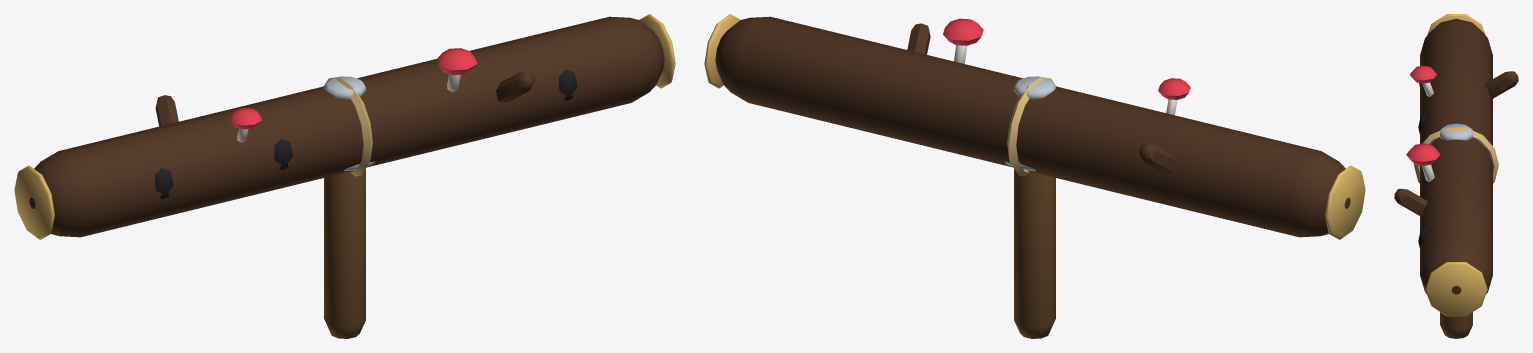
The model's file is H13_SpinningLog_Rotten.fbx.
3 renders of one model, left to right at view 1: azimuth 30°, elevation 25°; view 2: azimuth 150°, elevation 25°; view 3: azimuth 270°, elevation 25°, orthographic. The views are drawn at different scales.
Parts seen in each view (by area): view 1: Spinner, Static; view 2: Spinner, Static; view 3: Spinner, Static.
Boxes of the visible parts, x1,y1,x2,y2 form: Spinner: [14, 14, 675, 239]; Static: [324, 161, 375, 338]; Spinner: [704, 14, 1365, 239]; Static: [1004, 161, 1055, 338]; Spinner: [1394, 14, 1518, 316]; Static: [1440, 312, 1472, 338].
Size of the model in its own units: 6.84 by 2.91 by 1.43.
